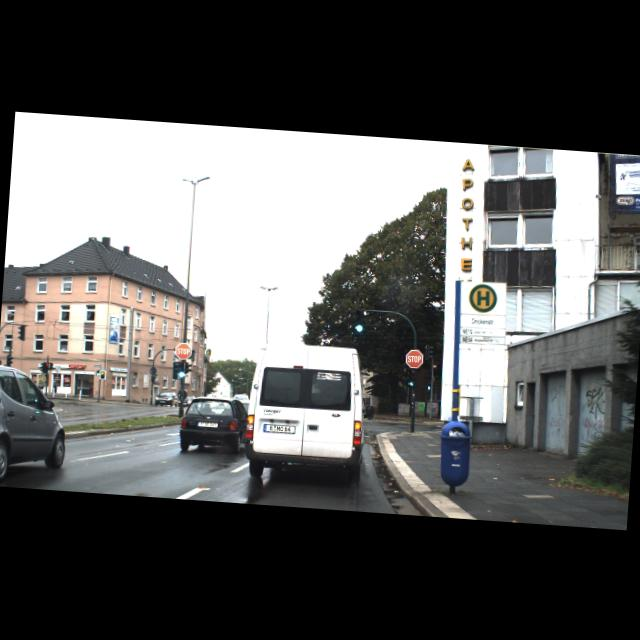other: (404, 348, 423, 367), (174, 342, 191, 359)
